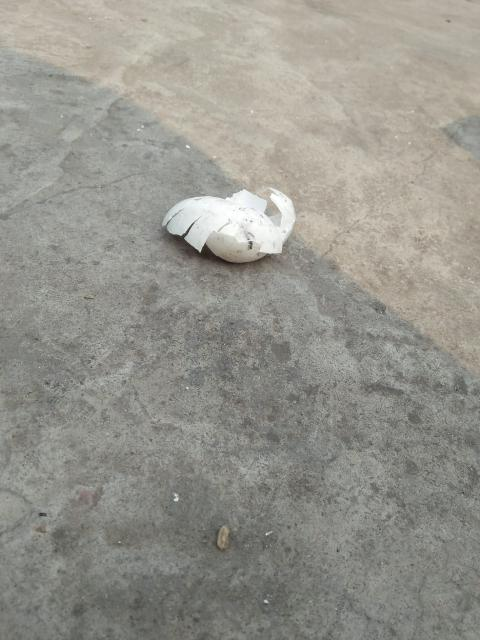Roto: (161, 186, 296, 264)
